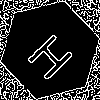H: (25, 25, 83, 83)
